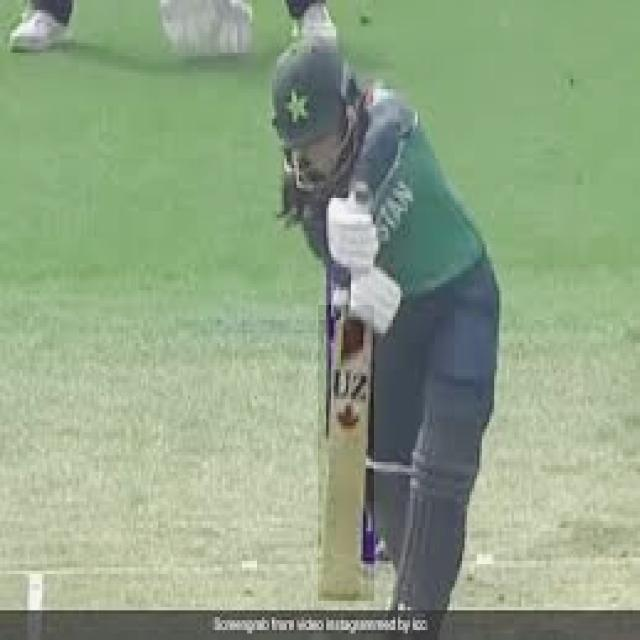bat: (310, 304, 377, 600)
toe: (309, 580, 375, 603)
